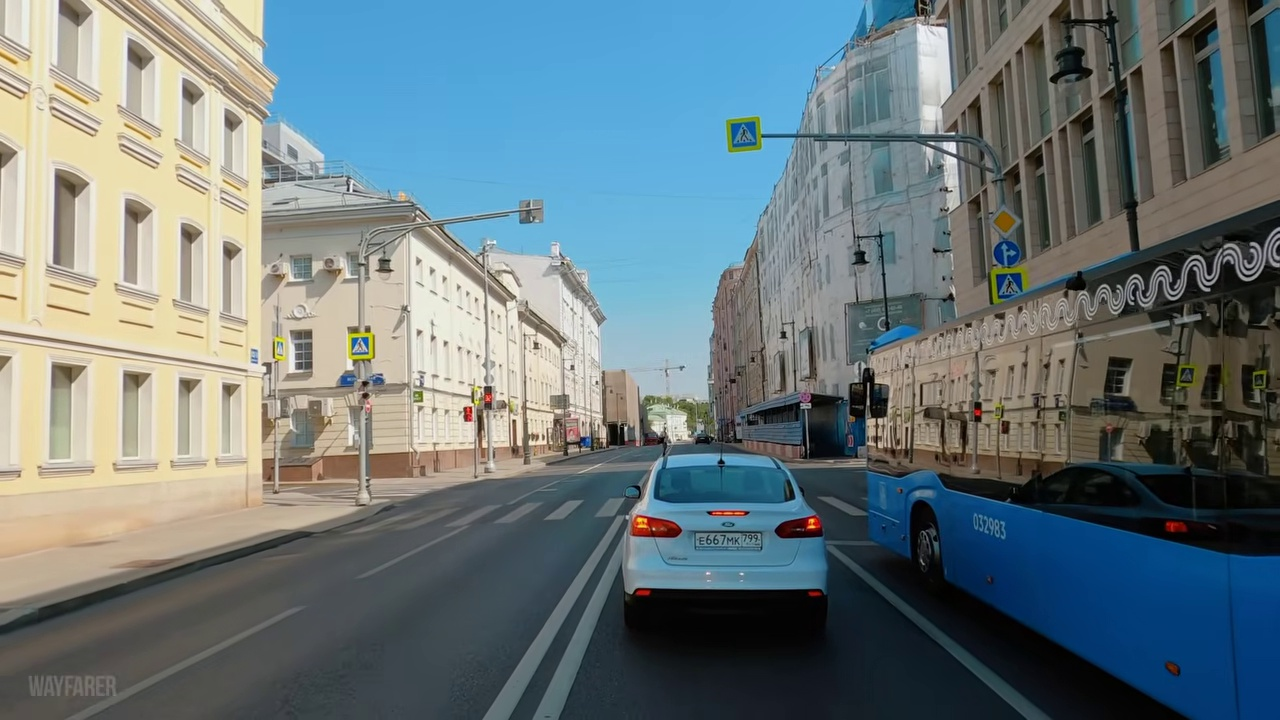apagada: (1049, 50, 1089, 101)
